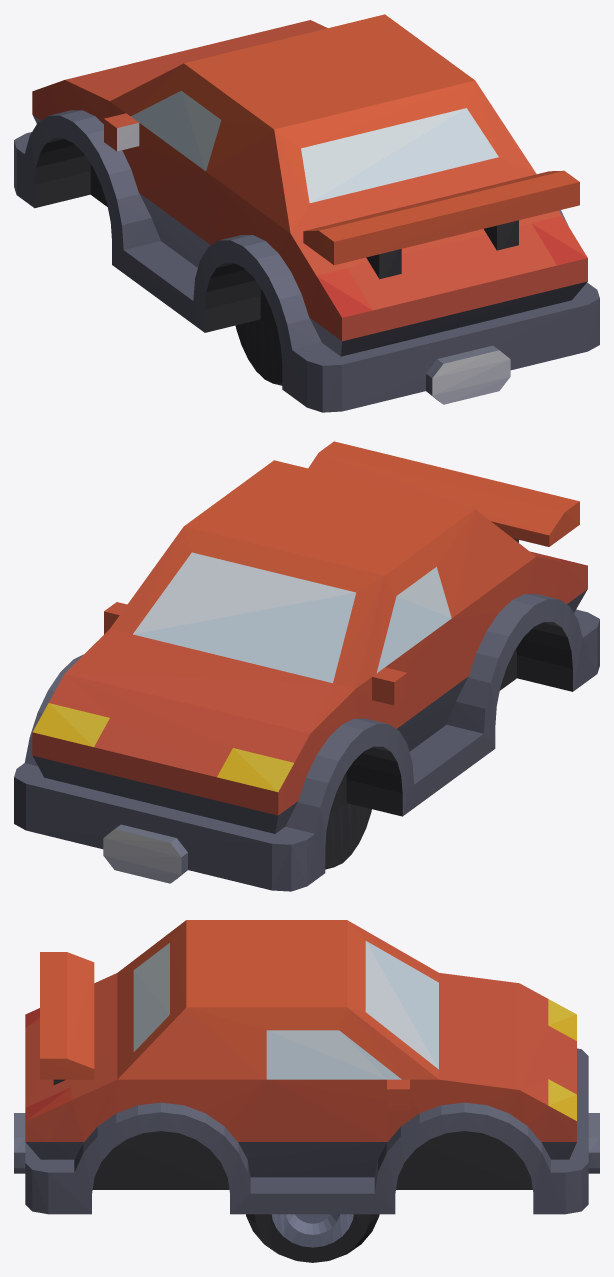
File: sedan-sports.glb
The picture shows the model from 3 angles, top to bottom: view 1: azimuth 30°, elevation 25°; view 2: azimuth 150°, elevation 25°; view 3: azimuth 270°, elevation 25°; orthographic projection. The views are drawn at different scales.
Parts seen in each view (by area): view 1: trim, wheel; view 2: trim, wheel; view 3: trim, wheel.
Boxes of the visible parts, x1,y1,x2,y2 form: trim: (14, 14, 599, 412); wheel: (235, 319, 282, 385); trim: (14, 441, 599, 891); wheel: (325, 803, 371, 869); trim: (14, 920, 599, 1214); wheel: (246, 1214, 379, 1262).
Size of the model in its own units: 1.3 by 1.4 by 2.55.
